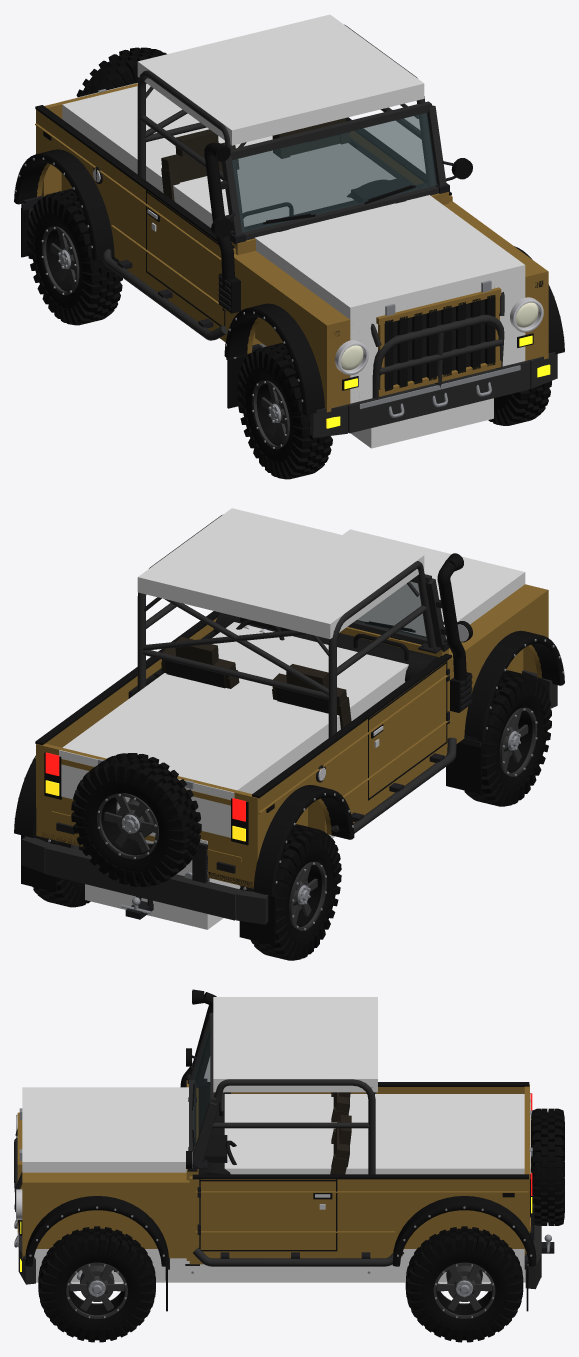
Rendered from Scout.fbx.
3 views of the same model, one above another, from view 1: azimuth 30°, elevation 25°; view 2: azimuth 150°, elevation 25°; view 3: azimuth 270°, elevation 25° (orthographic). The views are drawn at different scales.
Parts seen in each view (by area): view 1: COL_Hood, COL_Roof, Body_Tub, Windscreen_Glass, Fender_FR, Bumper_F, COL_Cab, Grille, Wheel_RR, Wheel_FR, WindscreenFrame, COL_Bed (+12 smaller); view 2: Body_Tub, COL_Roof, COL_Bed, SpareWheel, COL_Cab, Fender_FR, RollCage, Wheel_FR, Wheel_RR, Bumper_R, COL_Hood, MudFlaps (+11 smaller); view 3: Body_Tub, COL_Roof, COL_Hood, Fender_FL, COL_Cab, COL_Bed, Wheel_FL, Wheel_RL, COL_Chassis, SpareWheel, RollCage, Doors (+10 smaller).
Boxes of the visible parts, <box> form: COL_Hood: <box>254,195,525,403</box>; COL_Roof: <box>137,14,424,145</box>; Body_Tub: <box>14,105,452,345</box>; Windscreen_Glass: <box>232,113,437,232</box>; Fender_FR: <box>224,251,350,414</box>; Bumper_F: <box>310,292,557,437</box>; COL_Cab: <box>146,136,395,227</box>; Grille: <box>335,287,543,396</box>; Wheel_RR: <box>27,189,122,325</box>; Wheel_FR: <box>237,343,332,479</box>; WindscreenFrame: <box>221,101,449,244</box>; COL_Bed: <box>59,83,223,173</box>; Body_Tub: <box>14,611,452,896</box>; COL_Roof: <box>137,508,424,639</box>; COL_Bed: <box>59,691,314,837</box>; SpareWheel: <box>71,753,201,886</box>; COL_Cab: <box>140,622,408,747</box>; Fender_FR: <box>449,584,564,743</box>; RollCage: <box>137,515,441,737</box>; Wheel_FR: <box>464,670,551,806</box>; Wheel_RR: <box>250,824,341,960</box>; Bumper_R: <box>21,836,268,924</box>; COL_Hood: <box>343,529,525,638</box>; MudFlaps: <box>21,735,481,945</box>; Body_Tub: <box>186,1080,536,1266</box>; COL_Roof: <box>213,997,377,1092</box>; COL_Hood: <box>22,1087,188,1172</box>; Fender_FL: <box>22,1172,189,1266</box>; COL_Cab: <box>224,1094,392,1174</box>; COL_Bed: <box>389,1094,530,1174</box>; Wheel_FL: <box>38,1226,155,1342</box>; Wheel_RL: <box>405,1226,523,1342</box>; COL_Chassis: <box>34,1249,525,1282</box>; SpareWheel: <box>531,1108,564,1225</box>; RollCage: <box>196,1031,375,1174</box>; Doors: <box>193,1179,514,1266</box>.
Size of what is drawn, in the model's own units: 1.79 by 1.9 by 3.75.
